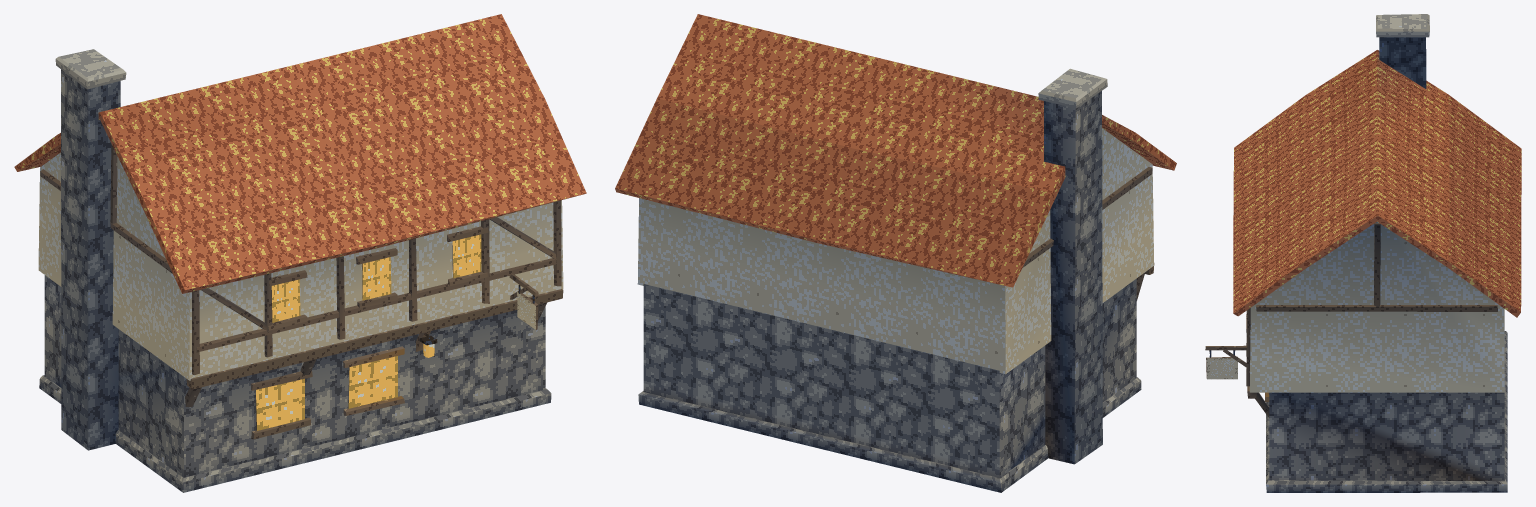
The model's file is vlg.tavern__doorway.glb.
3 views of the same model, side by side, from view 1: azimuth 30°, elevation 25°; view 2: azimuth 150°, elevation 25°; view 3: azimuth 270°, elevation 25° (orthographic). The views are drawn at different scales.
Visible parts, largest first — view 1: kit_roof, kit_walls, kit_stonework, kit_frame, kit_fittings; view 2: kit_walls, kit_roof, kit_stonework, kit_frame; view 3: kit_walls, kit_roof, kit_stonework, kit_frame, kit_fittings.
Boxes of the visible parts, left/top/right/bottom form: kit_roof: left=14, top=14, right=586, bottom=293; kit_walls: left=38, top=152, right=563, bottom=477; kit_stonework: left=39, top=49, right=551, bottom=492; kit_frame: left=40, top=144, right=563, bottom=407; kit_fittings: left=250, top=226, right=538, bottom=439; kit_walls: left=637, top=128, right=1154, bottom=477; kit_roof: left=615, top=14, right=1176, bottom=287; kit_stonework: left=638, top=68, right=1141, bottom=492; kit_frame: left=1022, top=166, right=1154, bottom=300; kit_walls: left=1249, top=222, right=1504, bottom=481; kit_roof: left=1233, top=50, right=1521, bottom=317; kit_stonework: left=1266, top=14, right=1507, bottom=492; kit_frame: left=1246, top=223, right=1497, bottom=417; kit_fittings: left=1205, top=314, right=1269, bottom=401.
Bounding box in the file's own units: 10.35 × 8.87 × 8.06.
Materials: 9 (9 with a texture image).
